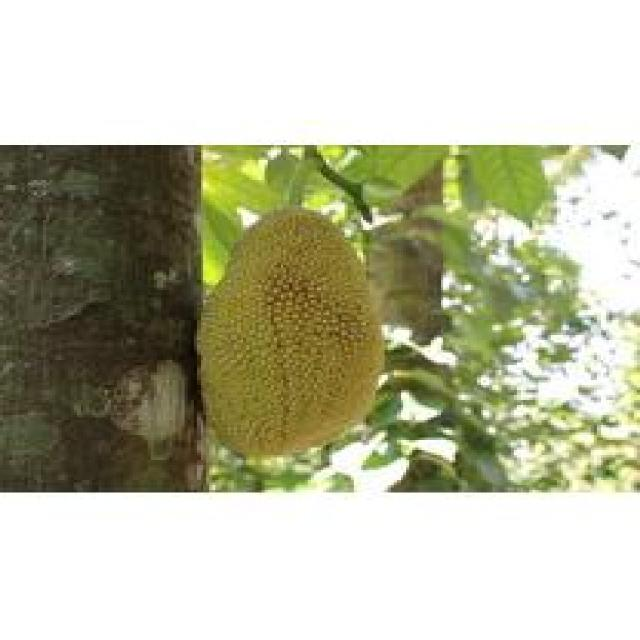Fruit: (188, 198, 397, 472)
